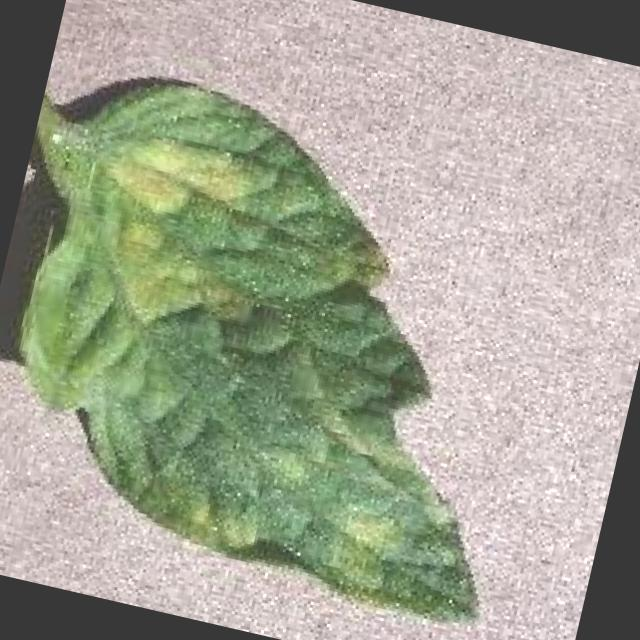leaf mold: (18, 82, 486, 635)
